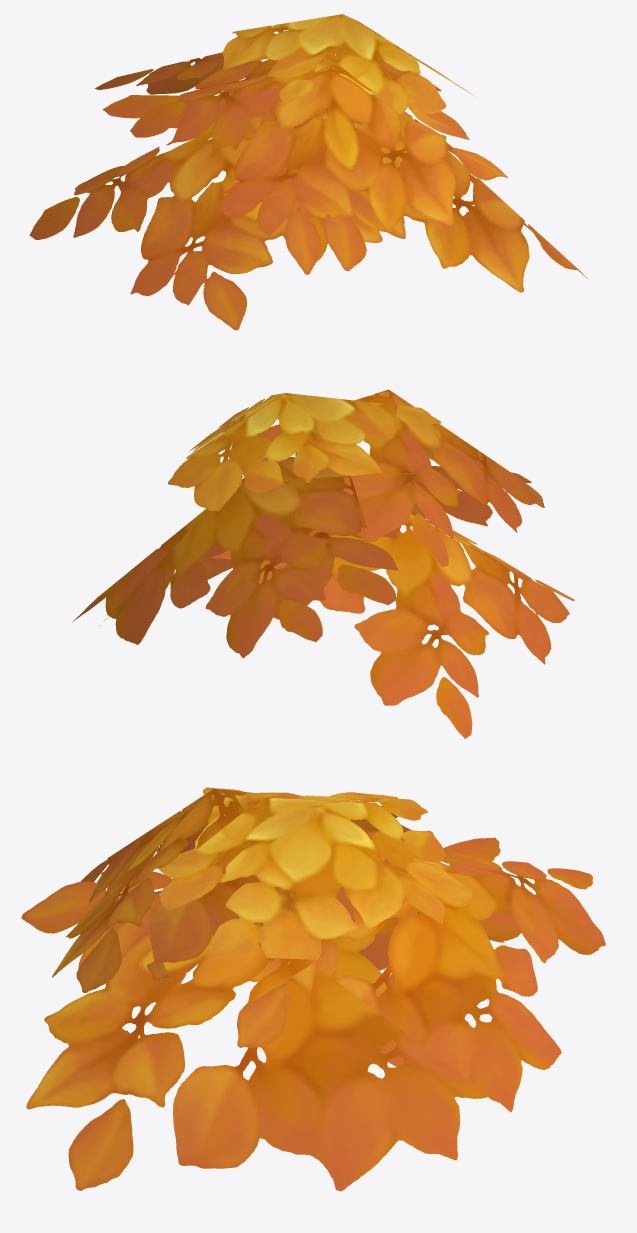
Rendered from Tyj_cdM_019.fbx.
The picture shows the model from 3 angles, top to bottom: view 1: azimuth 30°, elevation 25°; view 2: azimuth 150°, elevation 25°; view 3: azimuth 270°, elevation 25°; orthographic projection. The views are drawn at different scales.
Parts seen in each view (by area): view 1: Tyj_cdM_019; view 2: Tyj_cdM_019; view 3: Tyj_cdM_019.
Boxes of the visible parts, x1,y1,x2,y2 form: Tyj_cdM_019: (29, 14, 588, 330); Tyj_cdM_019: (72, 389, 574, 738); Tyj_cdM_019: (21, 787, 605, 1191).
Bounding box in the file's own units: 393 × 231 × 408.
